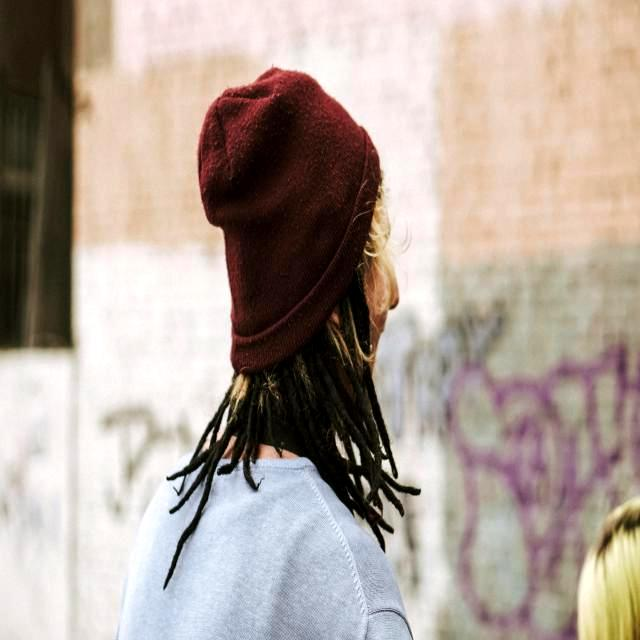no_hard_hat: (198, 68, 399, 373)
person: (164, 68, 421, 625)
